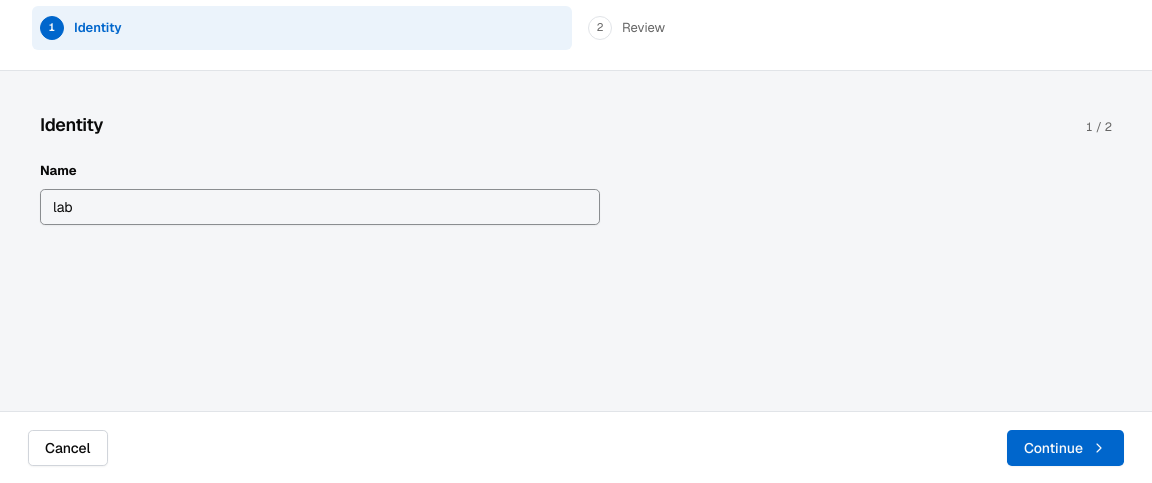
WizardForm › returns to a previous step when its values become invalid
What coordinates should you click on to do the following:
click the button "Continue"
I would click on:
 (1065, 448)
Its box is x1=1007 y1=430 x2=1124 y2=466.
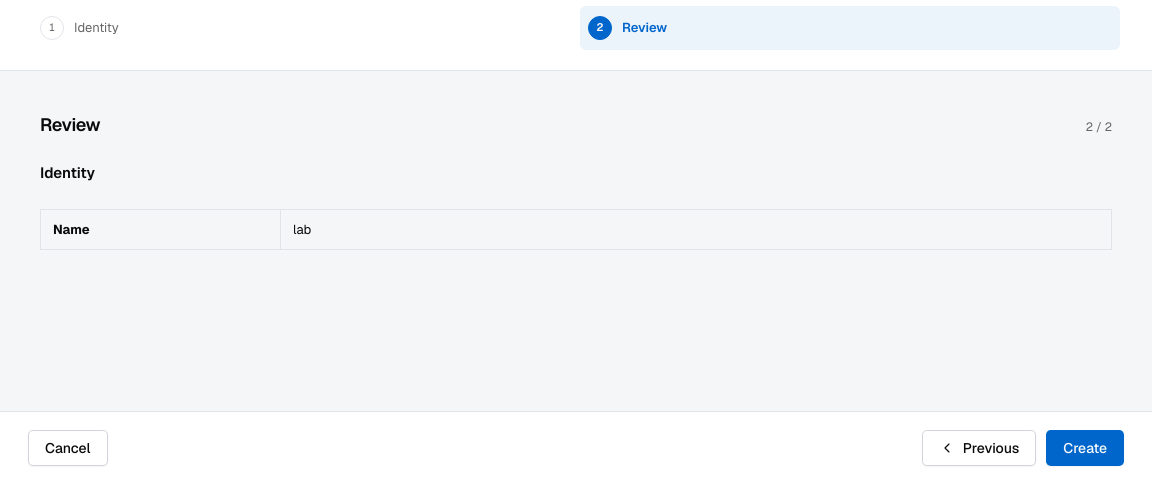
What coordinates should you click on to do the following:
click the button "Create"
I would click on:
 (1085, 448)
Its box is x1=1046 y1=430 x2=1124 y2=466.
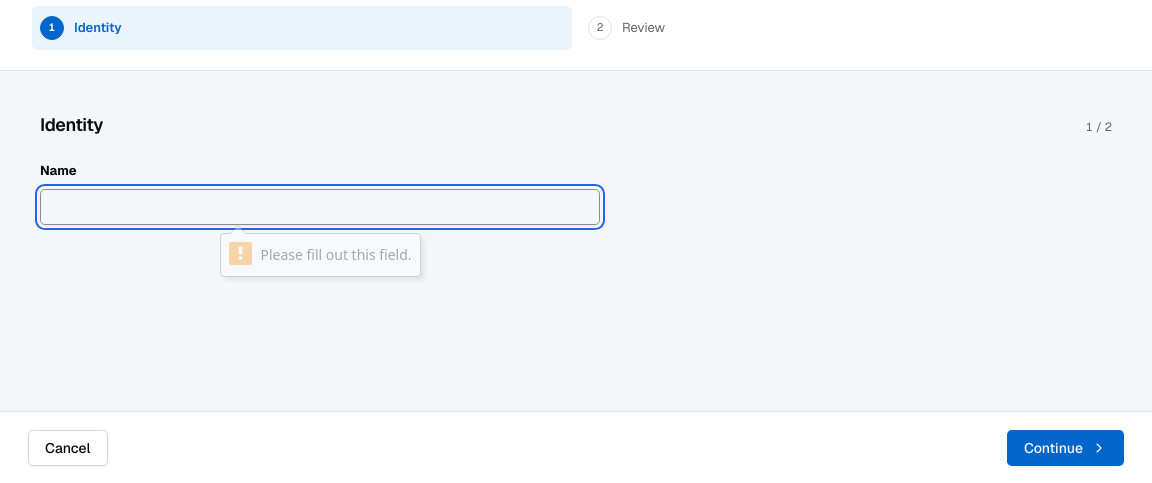
Expected: the heading "Identity" is shown, x1=40 y1=111 x2=103 y2=138
